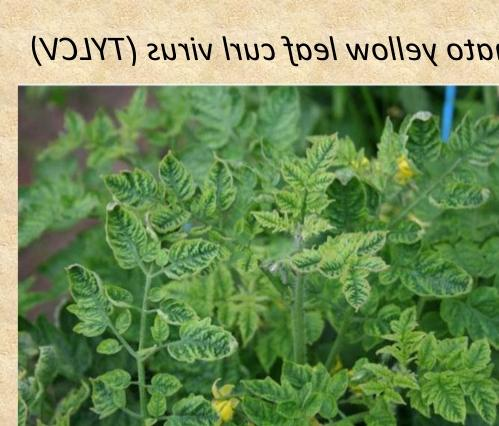Tomato leaf yellow virus: (430, 279, 499, 354), (401, 242, 476, 303), (60, 264, 119, 323), (178, 314, 242, 366), (149, 142, 197, 210), (102, 206, 148, 276), (203, 156, 241, 236), (395, 108, 439, 176), (445, 109, 499, 163), (93, 165, 162, 206), (300, 125, 353, 178), (161, 238, 220, 285), (426, 180, 489, 219), (339, 260, 375, 320), (159, 395, 227, 426), (231, 377, 296, 407), (454, 335, 493, 382), (429, 374, 464, 426), (460, 376, 499, 422), (278, 244, 325, 281), (266, 157, 307, 196), (347, 228, 392, 263), (324, 367, 351, 408), (412, 334, 437, 371), (308, 165, 334, 194), (359, 360, 393, 380)
